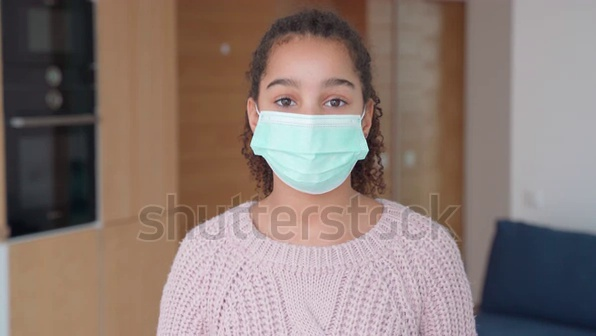Mask: (245, 111, 378, 196)
